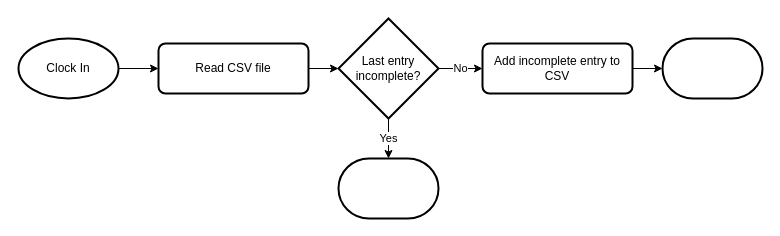
The diagram is 780 pixels wide and 236 high, and some of its shapes have lost their labels. Here are the shapes that lost their labels. From the top down, the centre of each, then its label:
At (x=712, y=68): "Exit".
At (x=388, y=188): "Exit with Error".
